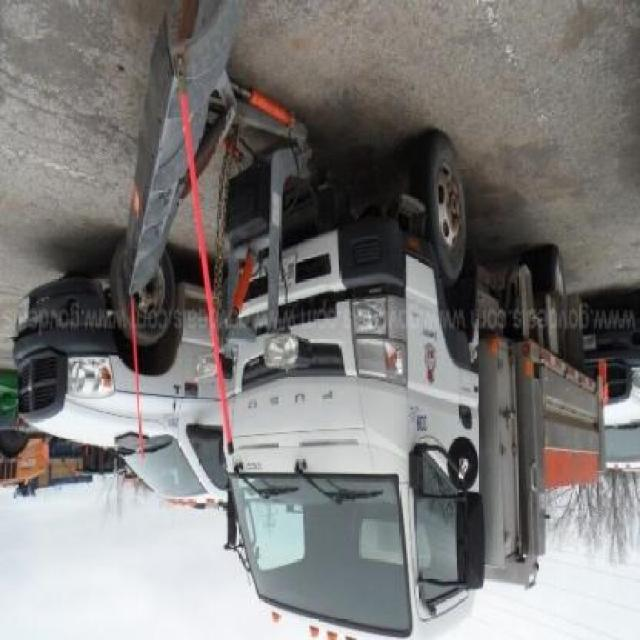truck: (219, 130, 606, 640)
